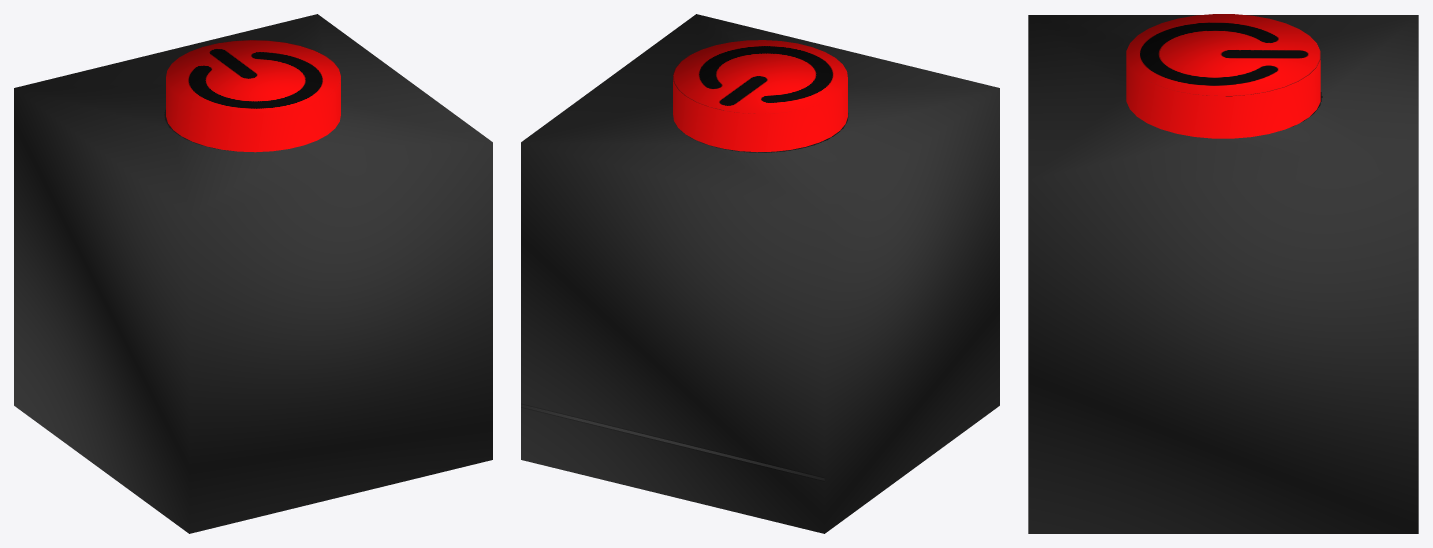
Rendered from Boton.fbx.
3 views of the same model, side by side, from view 1: azimuth 30°, elevation 25°; view 2: azimuth 150°, elevation 25°; view 3: azimuth 270°, elevation 25° (orthographic). The views are drawn at different scales.
Visible parts, largest first — view 1: Cube.001; view 2: Cube.001; view 3: Cube.001.
Part boxes in pixels (x1,y1,x2,y2): Cube.001: (14, 14, 492, 533); Cube.001: (521, 14, 999, 533); Cube.001: (1028, 14, 1418, 533).
Bounding box in the file's own units: 200 × 224 × 200.
1 material, 1 textured.
